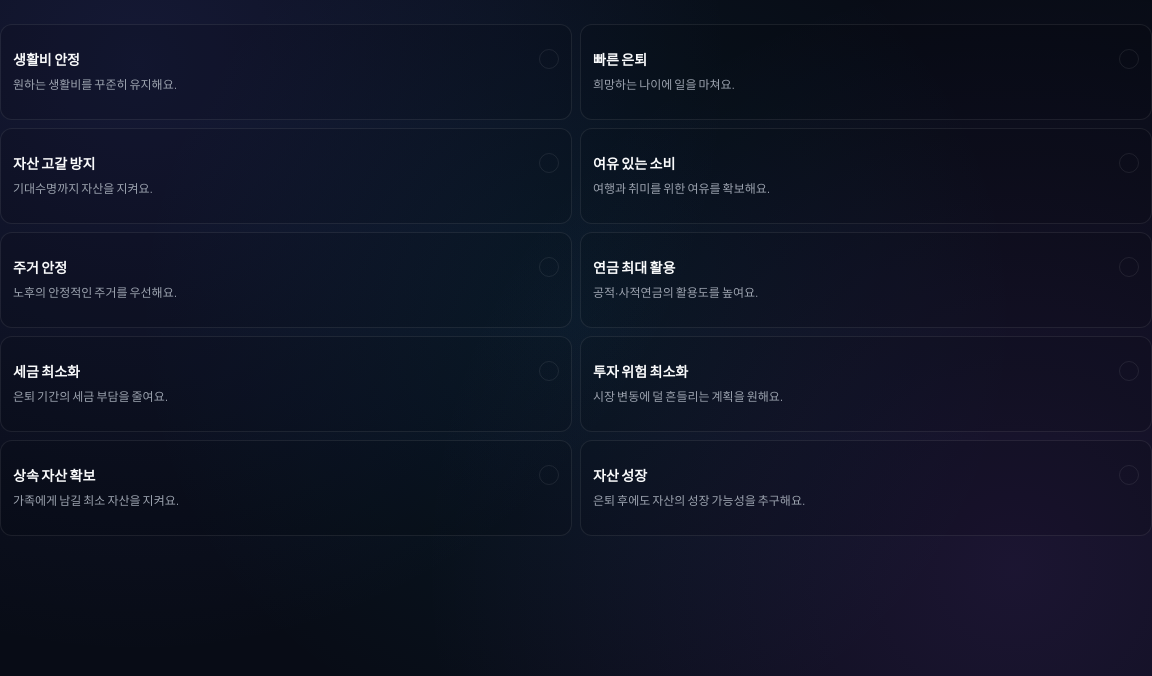
it: RetirementGoalSelector › 상속 목표를 처음 고르면 2년치 생활비를 목표 금액으로 시드한다
Click the button "상속 자산 확보 가족에게 남길 최소 자산을 지켜요.".
click(54, 475)  # box [0,440,572,536]
(page scrolled)
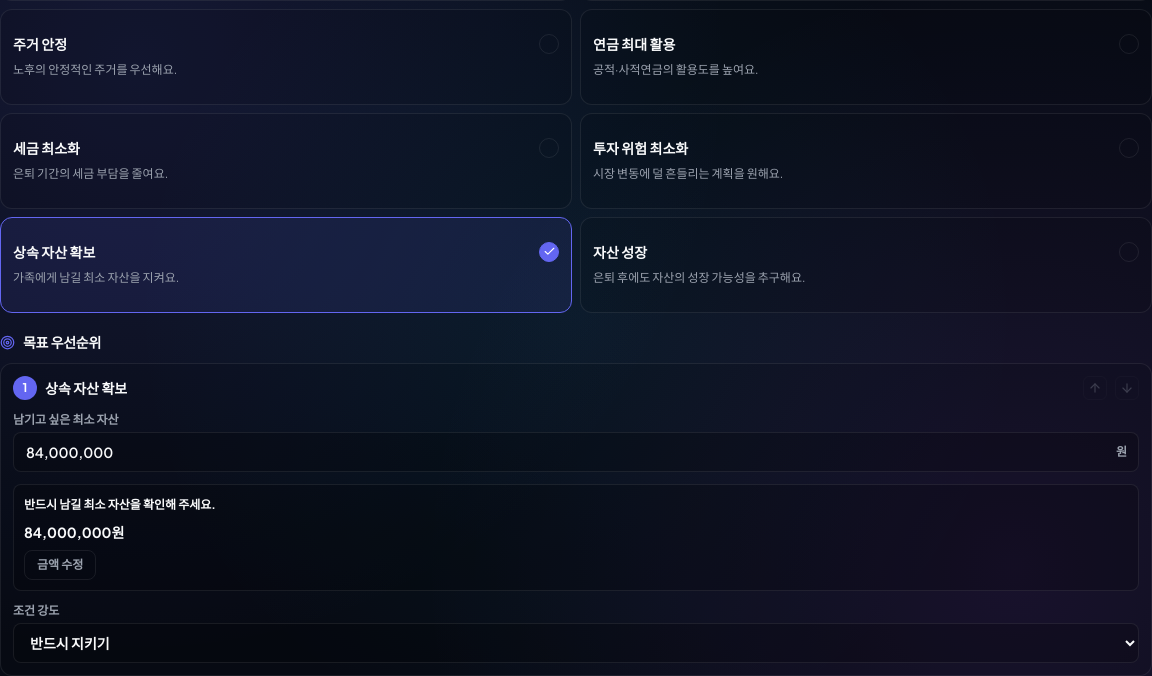
Result: the field labelled "남기고 싶은 최소 자산" holds "84,000,000" at [13,432,1139,472]
